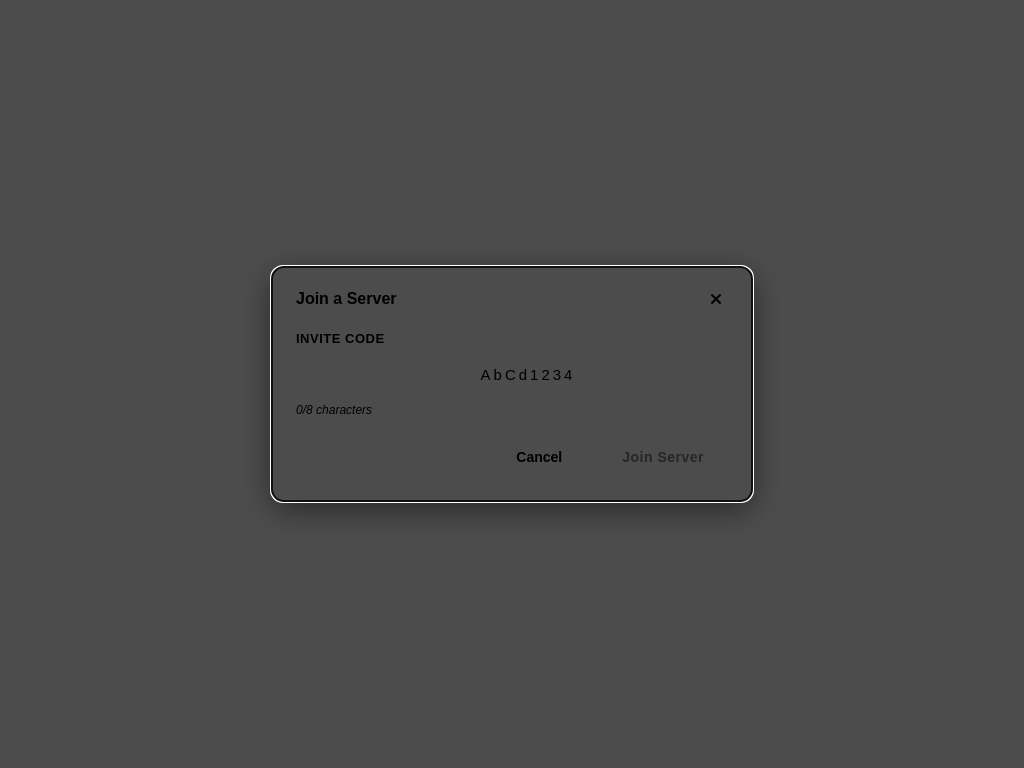
Test: JoinServerModal › updates character count as user types
This screenshot has width=1024, height=768.
Type "abc" into the field with placeholder "AbCd1234" at coordinates (528, 374), box [296,354,760,395]
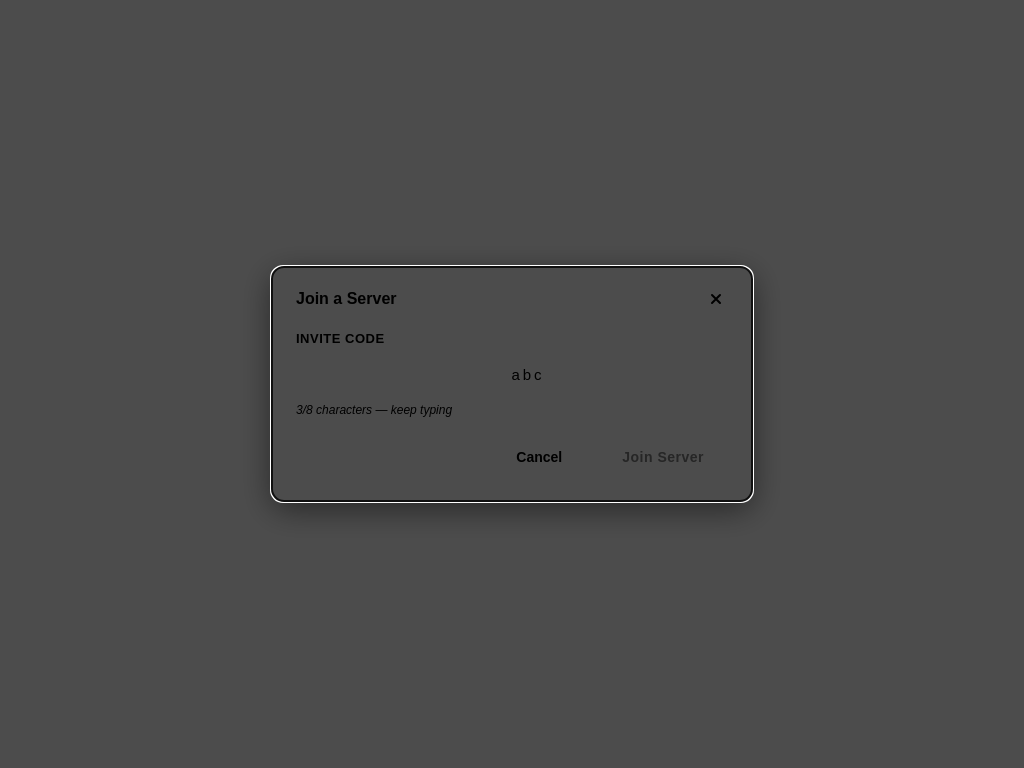
Now the text "3/8 characters — keep typing" is shown, box [296,403,452,417]
